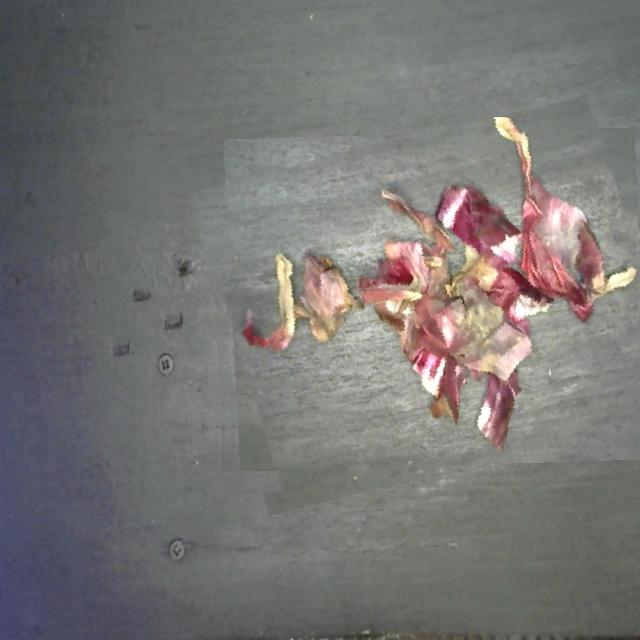biodegradable: (205, 117, 640, 494)
